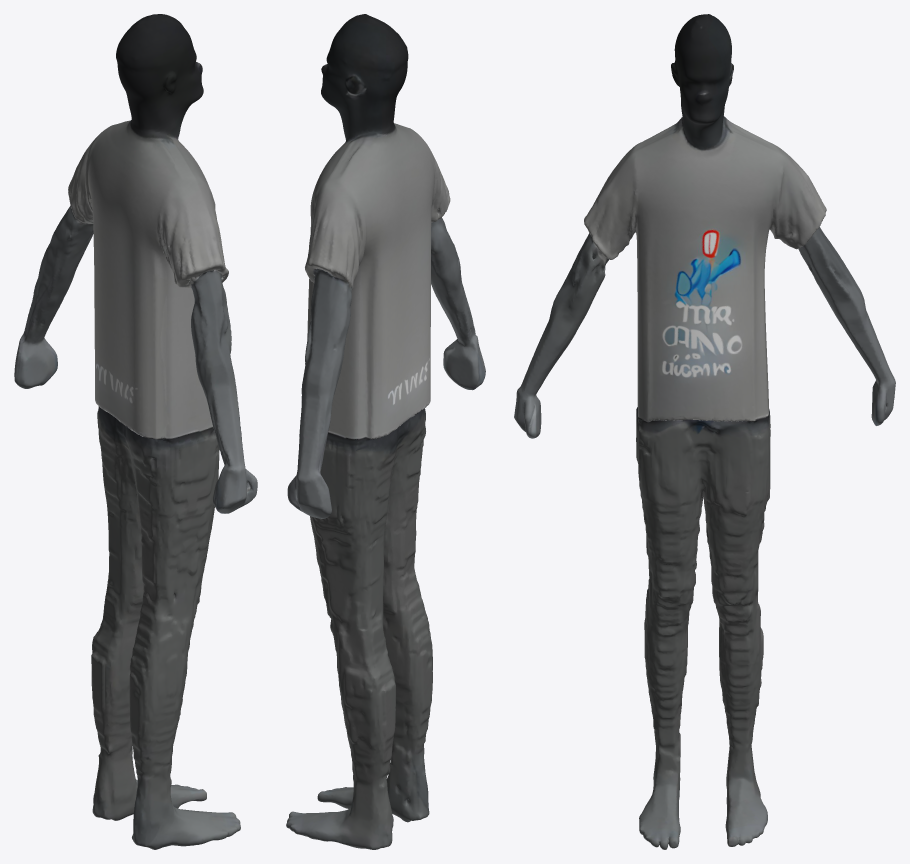
Rendered from result.glb.
3 renders of one model, left to right at view 1: azimuth 30°, elevation 25°; view 2: azimuth 150°, elevation 25°; view 3: azimuth 270°, elevation 25°, orthographic.
Parts seen in each view (by area): view 1: tripo_node_5fe29ede-6d72-4ba3-9aef-0009414c6323; view 2: tripo_node_5fe29ede-6d72-4ba3-9aef-0009414c6323; view 3: tripo_node_5fe29ede-6d72-4ba3-9aef-0009414c6323.
Part boxes in pixels (x1,y1,x2,y2): tripo_node_5fe29ede-6d72-4ba3-9aef-0009414c6323: (14,14,257,849); tripo_node_5fe29ede-6d72-4ba3-9aef-0009414c6323: (286,14,485,849); tripo_node_5fe29ede-6d72-4ba3-9aef-0009414c6323: (514,14,895,849).
Bounding box in the file's own units: 0.1499 × 1 × 0.4305.
Materials: 1 (1 with a texture image).
